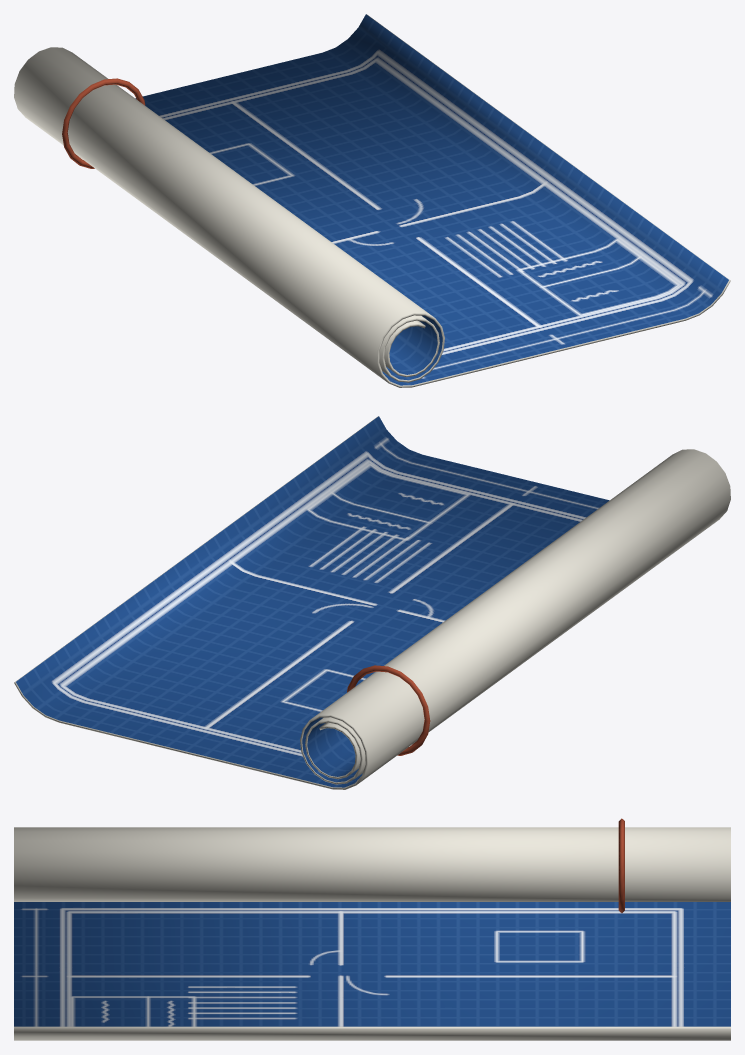
The model's file is desk-blueprint.glb.
3 views of the same model, one above another, from view 1: azimuth 30°, elevation 25°; view 2: azimuth 150°, elevation 25°; view 3: azimuth 270°, elevation 25° (orthographic).
Visible parts, largest first — view 1: desk-blueprint; view 2: desk-blueprint; view 3: desk-blueprint.
Boxes of the visible parts, x1,y1,x2,y2 form: desk-blueprint: [14, 14, 730, 387]; desk-blueprint: [14, 416, 730, 789]; desk-blueprint: [14, 818, 730, 1040].
Size of the model in its own units: 52.8 by 12.38 by 92.
1 material, 1 textured.
